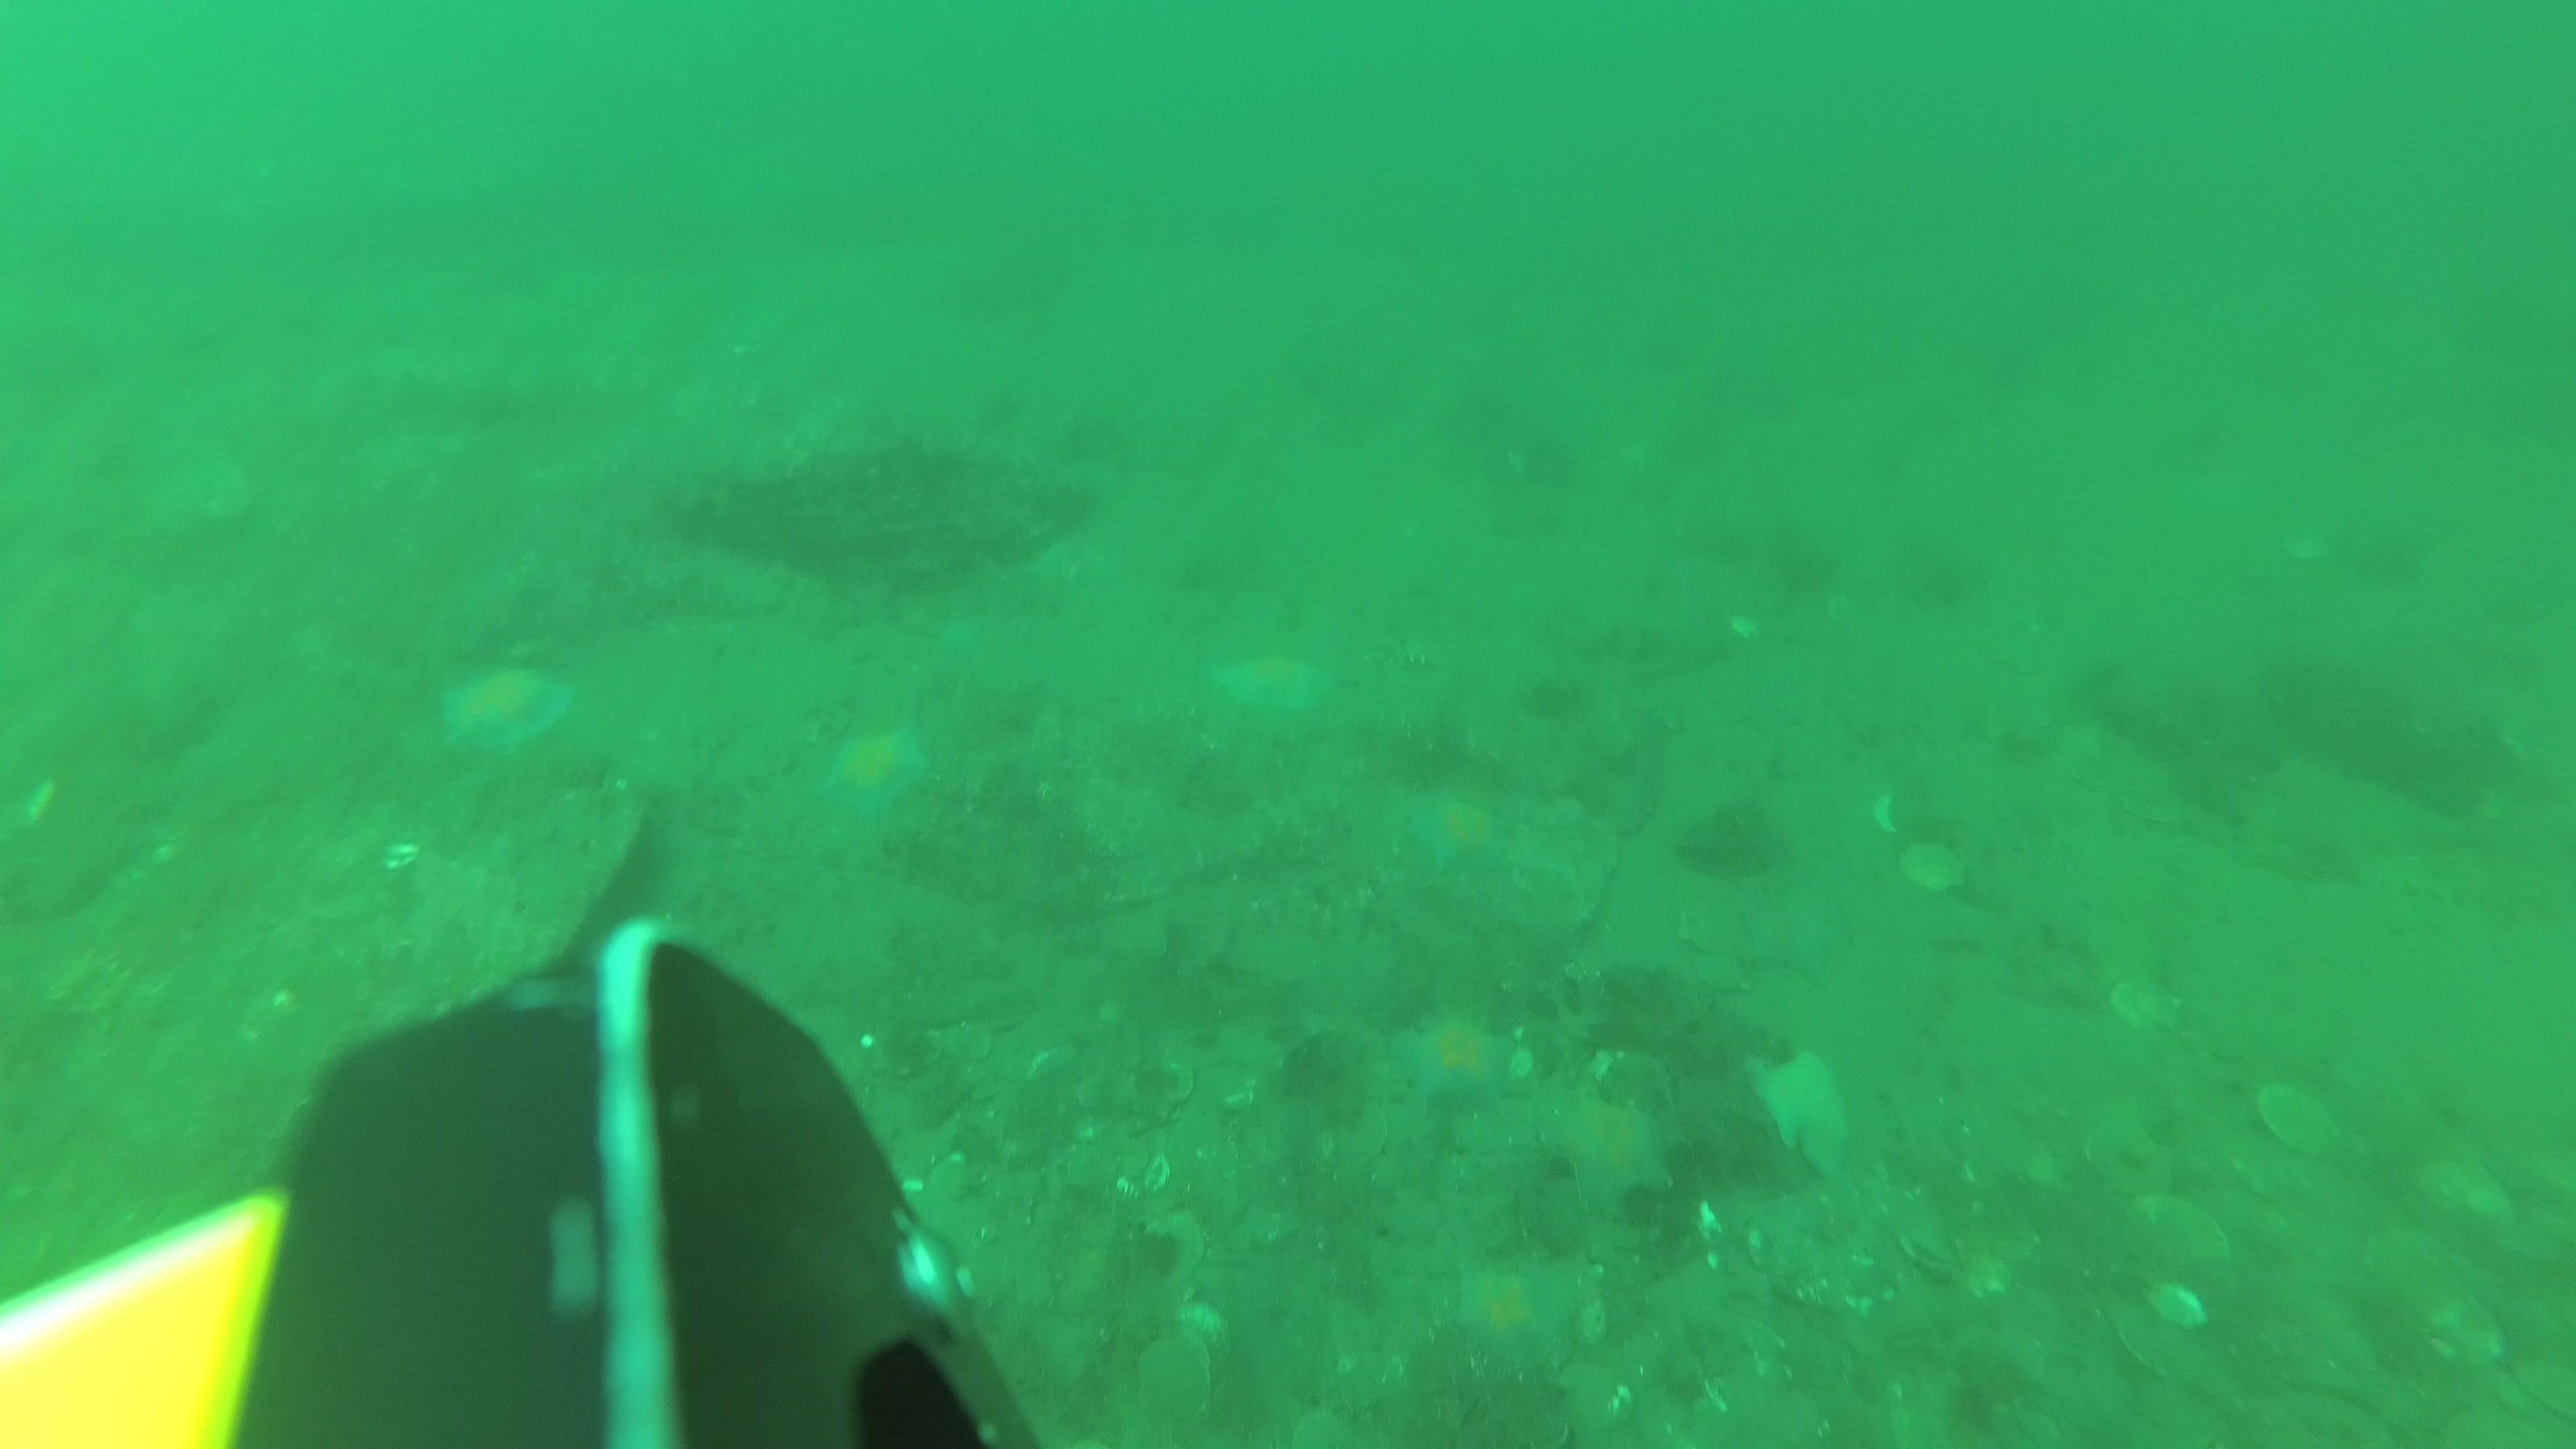scallop: (2254, 1077, 2342, 1161), (1136, 1334, 1219, 1419), (2107, 971, 2187, 1039), (1127, 1056, 1200, 1125), (1898, 835, 1966, 897)
starfish: (1550, 1092, 1677, 1219), (1460, 1261, 1571, 1371), (439, 671, 566, 754), (1403, 1017, 1516, 1104), (823, 729, 932, 817), (1415, 796, 1518, 874), (1215, 653, 1327, 715)
